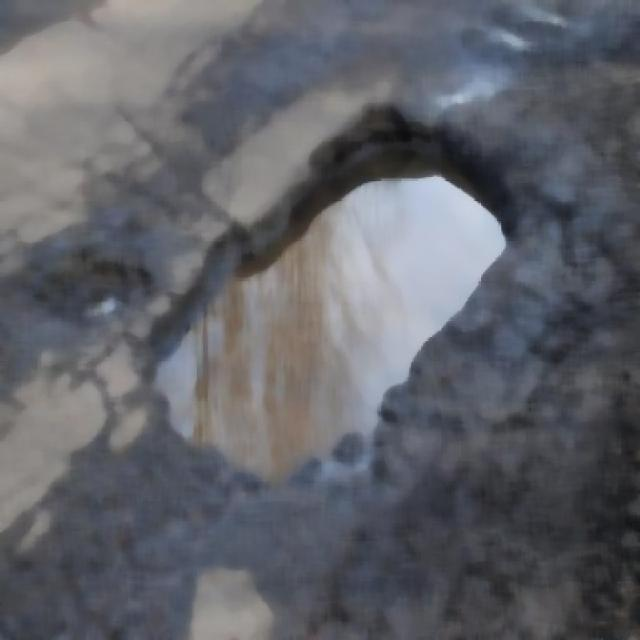Pothole: (147, 127, 508, 442)
